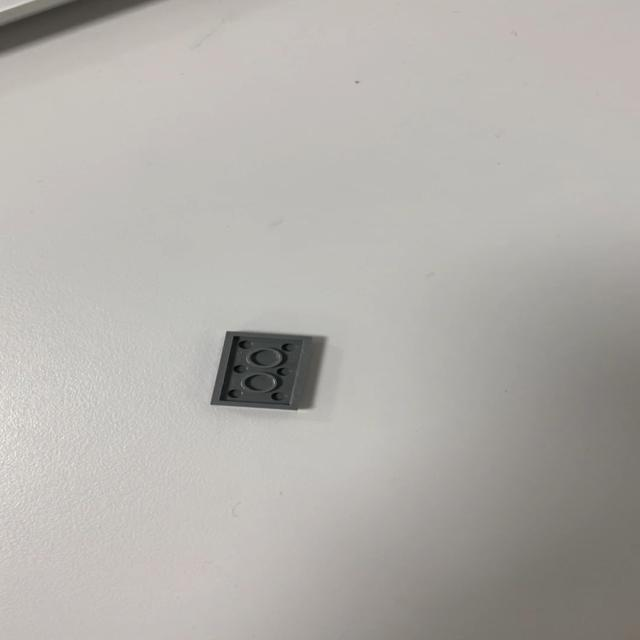C3x2x0: (208, 330, 314, 411)
